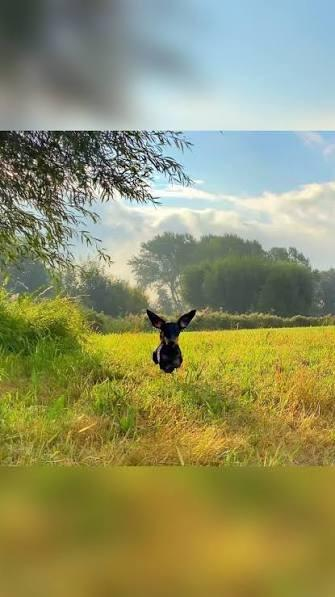adult_dog: (147, 308, 197, 382)
